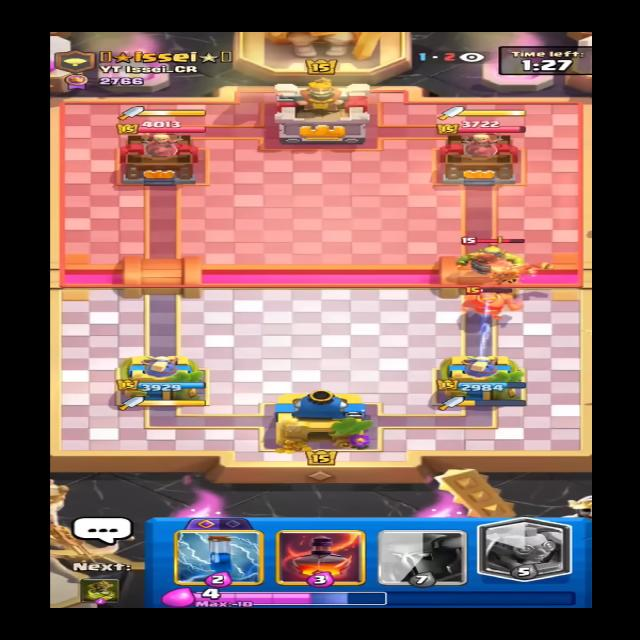Goblindemolisher: (456, 235, 538, 278)
Knight: (457, 277, 519, 314)
